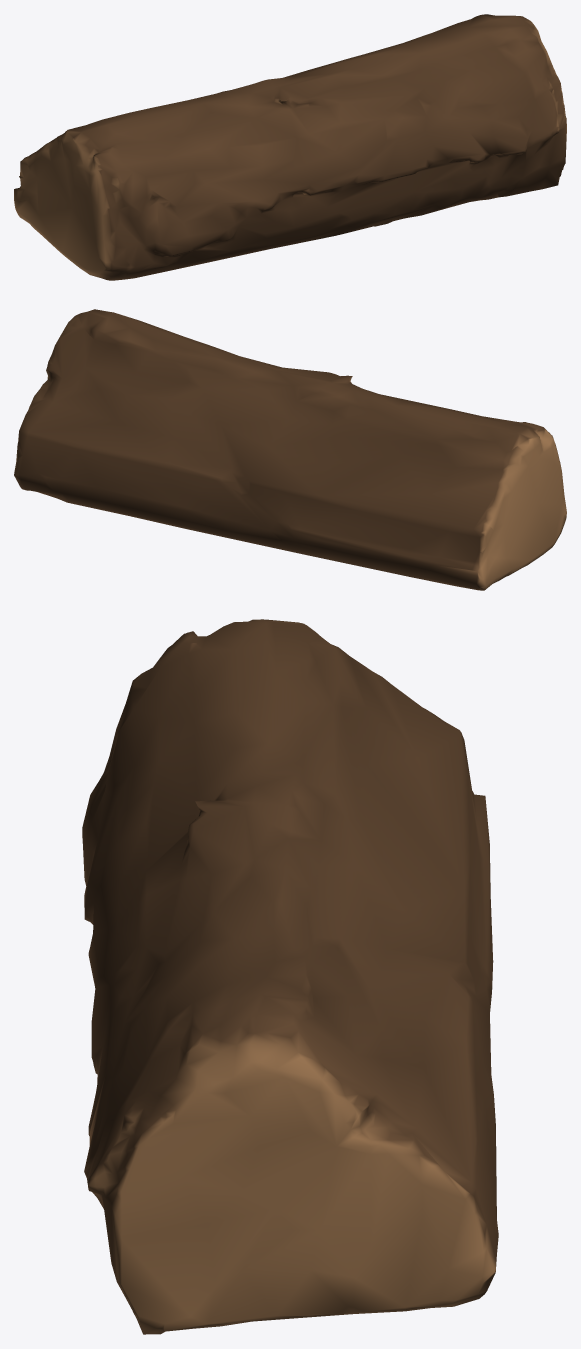
Rendered from log.glb.
3 renders of one model, top to bottom at view 1: azimuth 30°, elevation 25°; view 2: azimuth 150°, elevation 25°; view 3: azimuth 270°, elevation 25°, orthographic. The views are drawn at different scales.
Visible parts, largest first — view 1: log; view 2: log; view 3: log.
Boxes of the visible parts, x1,y1,x2,y2 form: log: [14, 14, 566, 280]; log: [14, 309, 566, 590]; log: [82, 619, 498, 1334].
Bounding box in the file's own units: 0.45 × 0.1431 × 0.1743.
